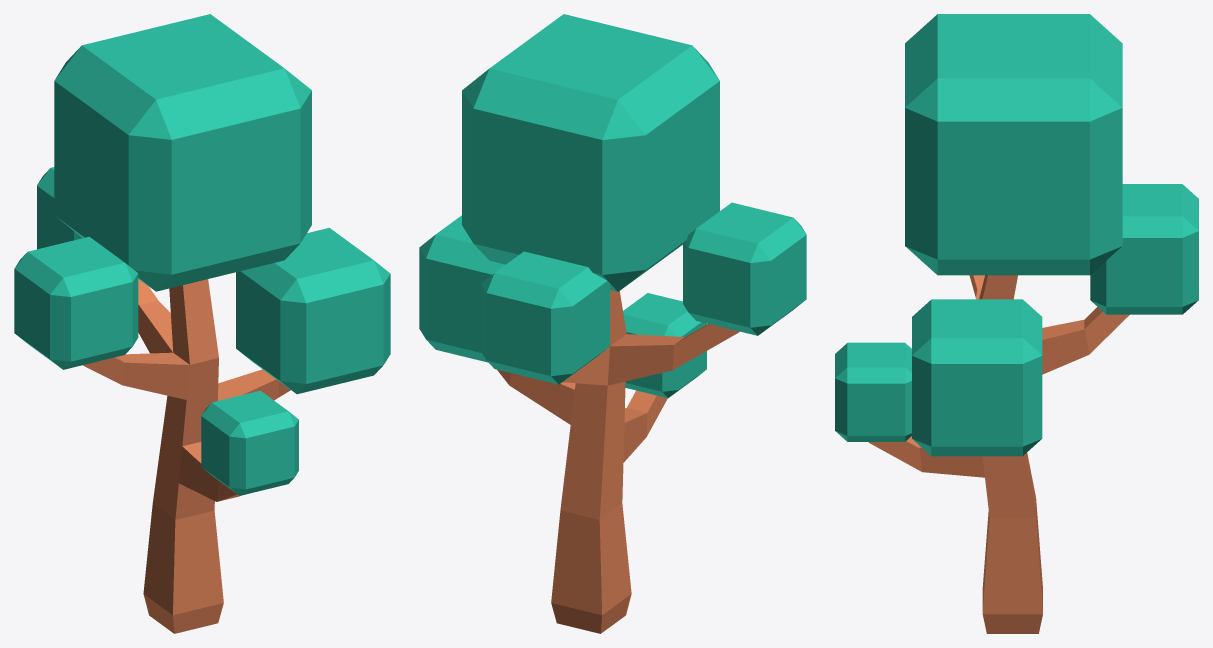
Rendered from tree_detailed.dae.
The picture shows the model from 3 angles, left to right: view 1: azimuth 30°, elevation 25°; view 2: azimuth 150°, elevation 25°; view 3: azimuth 270°, elevation 25°; orthographic projection. The views are drawn at different scales.
Visible parts, largest first — view 1: tree_detailed; view 2: tree_detailed; view 3: tree_detailed.
Boxes of the visible parts, x1,y1,x2,y2 form: tree_detailed: (14,14,390,633); tree_detailed: (419,14,806,633); tree_detailed: (835,14,1198,633).
Bounding box in the file's own units: 0.8471 × 1.33 × 0.7616.
